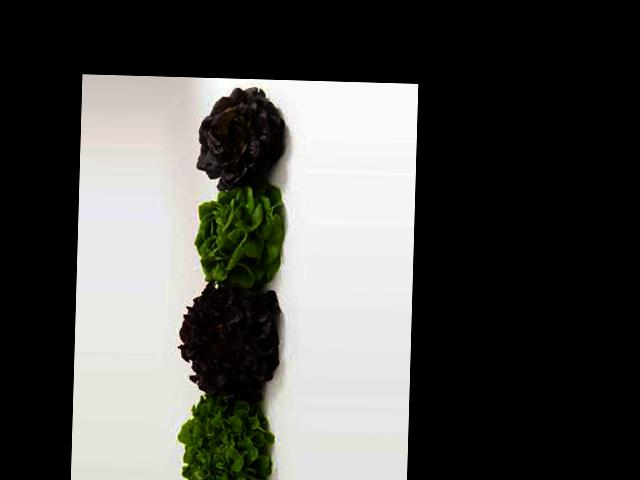lettuce: (198, 190, 287, 287)
